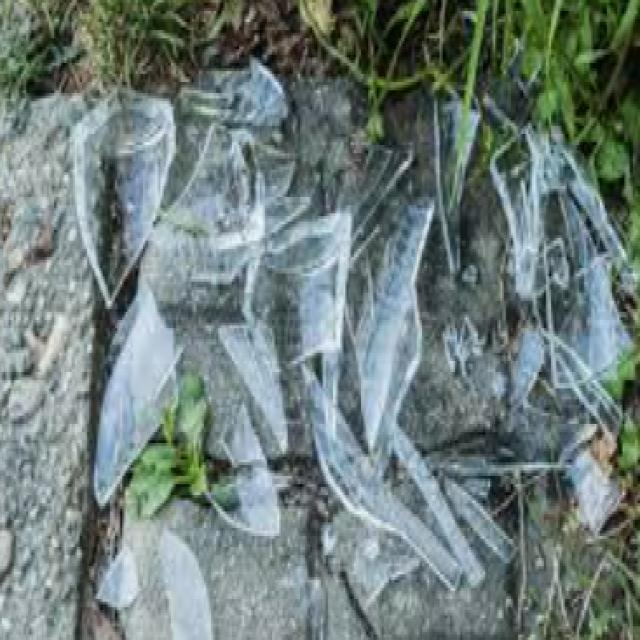PecahanKaca: (75, 55, 516, 634), (122, 366, 213, 520)
